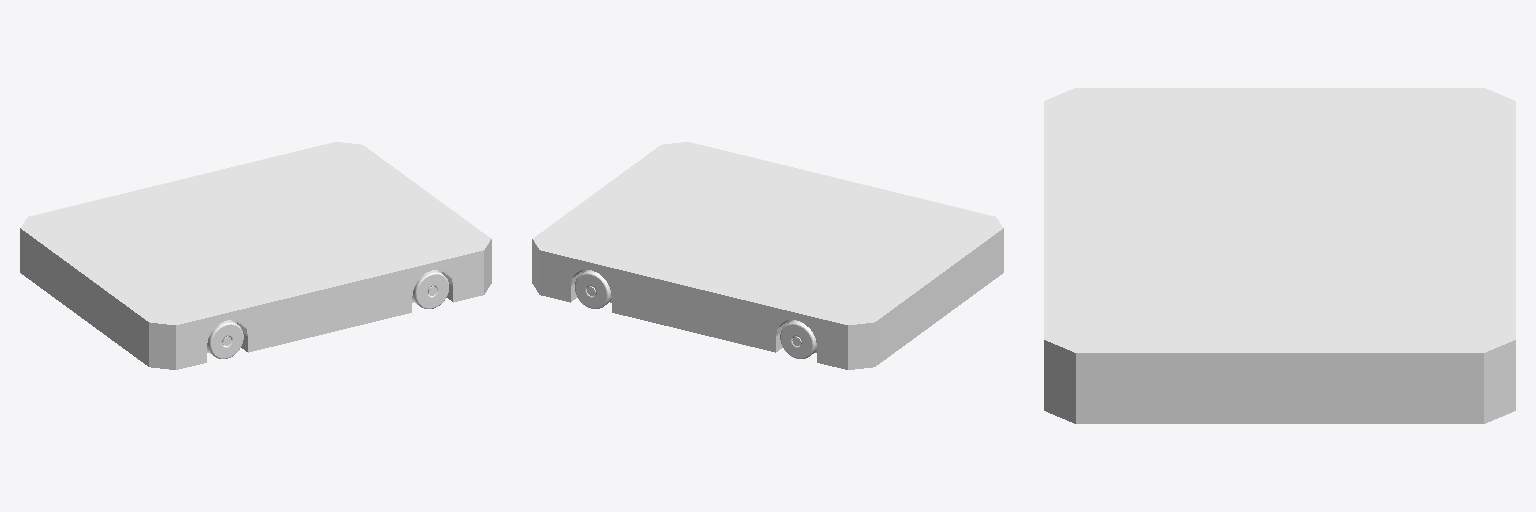
URDF robot description (agv):
<?xml version="1.0" encoding="utf-8"?>
<!-- This URDF was automatically created by SolidWorks to URDF Exporter! Originally created by [author] ([email redacted]) 
     Commit Version: 1.5.1-0-g916b5db  Build Version: 1.5.7152.31018
     For more information, please see http://wiki.ros.org/sw_urdf_exporter -->
<robot
  name="agv">
  <link
    name="base_footprint">
    <inertial>
      <origin
        xyz="3.46944695195361E-18 -5.55111512312578E-17 2.0000000000131E-05"
        rpy="0 0 0" />
      <mass
        value="2.01061929829948E-06" />
      <inertia
        ixx="8.04274527577102E-12"
        ixy="1.74616350177578E-55"
        ixz="3.13801719793953E-41"
        iyy="8.04274527577102E-12"
        iyz="-3.1083661313164E-46"
        izz="1.60849543863958E-11" />
    </inertial>
    <visual>
      <origin
        xyz="0 0 0"
        rpy="0 0 0" />
      <geometry>
        <mesh
          filename="package://agv_description/meshes/base_footprint.STL" />
      </geometry>
      <material
        name="">
        <color
          rgba="0.792156862745098 0.819607843137255 0.933333333333333 1" />
      </material>
    </visual>
    <collision>
      <origin
        xyz="0 0 0"
        rpy="0 0 0" />
      <geometry>
        <mesh
          filename="package://agv_description/meshes/base_footprint.STL" />
      </geometry>
    </collision>
  </link>
  <link
    name="base_Link">
    <inertial>
      <origin
        xyz="5.55111512312578E-17 -5.55111512312578E-17 0.125713618058247"
        rpy="0 0 0" />
      <mass
        value="728.097611322316" />
      <inertia
        ixx="133.566305698896"
        ixy="-5.4752209710518E-15"
        ixz="1.84390819133475E-16"
        iyy="242.974613570221"
        iyz="5.8190149305217E-16"
        izz="368.924129651498" />
    </inertial>
    <visual>
      <origin
        xyz="0 0 0"
        rpy="0 0 0" />
      <geometry>
        <mesh
          filename="package://agv_description/meshes/base_Link.STL" />
      </geometry>
      <material
        name="">
        <color
          rgba="1 1 1 1" />
      </material>
    </visual>
    <collision>
      <origin
        xyz="0 0 0"
        rpy="0 0 0" />
      <geometry>
        <mesh
          filename="package://agv_description/meshes/base_Link.STL" />
      </geometry>
    </collision>
  </link>
  <joint
    name="base_footprint_joint"
    type="fixed">
    <origin
      xyz="0 0 4E-05"
      rpy="0 0 0" />
    <parent
      link="base_footprint" />
    <child
      link="base_Link" />
    <axis
      xyz="0 0 0" />
  </joint>
  <link
    name="fl_Link">
    <inertial>
      <origin
        xyz="0 -2.22044604925031E-16 0.035"
        rpy="0 0 0" />
      <mass
        value="2.02796060125243" />
      <inertia
        ixx="0.00615294550222383"
        ixy="-2.34337466040914E-37"
        ixz="-3.67174469838234E-35"
        iyy="0.00615294550222383"
        iyz="-1.24830192880275E-35"
        izz="0.0106948140752879" />
    </inertial>
    <visual>
      <origin
        xyz="0 0 0"
        rpy="0 0 0" />
      <geometry>
        <mesh
          filename="package://agv_description/meshes/fl_Link.STL" />
      </geometry>
      <material
        name="">
        <color
          rgba="1 1 1 1" />
      </material>
    </visual>
    <collision>
      <origin
        xyz="0 0 0"
        rpy="0 0 0" />
      <geometry>
        <mesh
          filename="package://agv_description/meshes/fl_Link.STL" />
      </geometry>
    </collision>
  </link>
  <joint
    name="fl_joint"
    type="continuous">
    <origin
      xyz="0.6 0.68 0.09"
      rpy="-1.5708 0 0" />
    <parent
      link="base_Link" />
    <child
      link="fl_Link" />
    <axis
      xyz="0 0 1" />
  </joint>
  <link
    name="bl_Link">
    <inertial>
      <origin
        xyz="1.11022302462516E-16 0 0.0349886144674467"
        rpy="0 0 0" />
      <mass
        value="2.0286827045136" />
      <inertia
        ixx="0.00615398036846577"
        ixy="2.01225942475967E-34"
        ixz="9.73822666280366E-23"
        iyy="0.00615398036846577"
        iyz="-1.31655367292096E-33"
        izz="0.0106953992824643" />
    </inertial>
    <visual>
      <origin
        xyz="0 0 0"
        rpy="0 0 0" />
      <geometry>
        <mesh
          filename="package://agv_description/meshes/bl_Link.STL" />
      </geometry>
      <material
        name="">
        <color
          rgba="1 1 1 1" />
      </material>
    </visual>
    <collision>
      <origin
        xyz="0 0 0"
        rpy="0 0 0" />
      <geometry>
        <mesh
          filename="package://agv_description/meshes/bl_Link.STL" />
      </geometry>
    </collision>
  </link>
  <joint
    name="bl_joint"
    type="continuous">
    <origin
      xyz="-0.6 0.68 0.0900000000000001"
      rpy="-1.5707963267949 0 0" />
    <parent
      link="base_Link" />
    <child
      link="bl_Link" />
    <axis
      xyz="0 0 1" />
  </joint>
  <link
    name="fr_Link">
    <inertial>
      <origin
        xyz="0 2.22044604925031E-16 0.0350501592853405"
        rpy="0 0 0" />
      <mass
        value="2.03116301113069" />
      <inertia
        ixx="0.00616813439647654"
        ixy="-2.49506093056538E-34"
        ixz="-1.10979702273246E-19"
        iyy="0.00616813439647653"
        iyz="1.86315854605333E-33"
        izz="0.0107186859543853" />
    </inertial>
    <visual>
      <origin
        xyz="0 0 0"
        rpy="0 0 0" />
      <geometry>
        <mesh
          filename="package://agv_description/meshes/fr_Link.STL" />
      </geometry>
      <material
        name="">
        <color
          rgba="1 1 1 1" />
      </material>
    </visual>
    <collision>
      <origin
        xyz="0 0 0"
        rpy="0 0 0" />
      <geometry>
        <mesh
          filename="package://agv_description/meshes/fr_Link.STL" />
      </geometry>
    </collision>
  </link>
  <joint
    name="fr_joint"
    type="continuous">
    <origin
      xyz="0.6 -0.68 0.0900000000000001"
      rpy="1.5707963267949 0 0" />
    <parent
      link="base_Link" />
    <child
      link="fr_Link" />
    <axis
      xyz="0 0 1" />
  </joint>
  <link
    name="br_Link">
    <inertial>
      <origin
        xyz="0 0 0.0349611985496496"
        rpy="0 0 0" />
      <mass
        value="2.03044090786952" />
      <inertia
        ixx="0.00616710132063279"
        ixy="-1.22133482371899E-36"
        ixz="1.10920318812234E-19"
        iyy="0.00616710132063279"
        iyz="-1.26745985148929E-35"
        izz="0.010718100747209" />
    </inertial>
    <visual>
      <origin
        xyz="0 0 0"
        rpy="0 0 0" />
      <geometry>
        <mesh
          filename="package://agv_description/meshes/br_Link.STL" />
      </geometry>
      <material
        name="">
        <color
          rgba="1 1 1 1" />
      </material>
    </visual>
    <collision>
      <origin
        xyz="0 0 0"
        rpy="0 0 0" />
      <geometry>
        <mesh
          filename="package://agv_description/meshes/br_Link.STL" />
      </geometry>
    </collision>
  </link>
  <joint
    name="br_joint"
    type="continuous">
    <origin
      xyz="-0.6 -0.68 0.0899999999999994"
      rpy="1.5707963267949 0 0" />
    <parent
      link="base_Link" />
    <child
      link="br_Link" />
    <axis
      xyz="0 0 1" />
  </joint>
</robot>

--- What the picture shows (computed from the rendered views, not written in the file) ---
3 views of the same robot in one strip: view 1: azimuth 30°, elevation 25°; view 2: azimuth 150°, elevation 25°; view 3: azimuth 270°, elevation 25° (orthographic).
Robot: agv — 6 links, 5 joints (4 continuous, 1 fixed); root link base_footprint; default pose: every joint at zero.
Visible links, largest first — view 1: base_Link, fr_Link, br_Link; view 2: base_Link, bl_Link, fl_Link; view 3: base_Link.
Boxes of the visible links, bbox=[...] form: base_Link: bbox=[20, 142, 491, 369]; fr_Link: bbox=[412, 270, 448, 308]; br_Link: bbox=[207, 320, 243, 358]; base_Link: bbox=[532, 142, 1003, 369]; bl_Link: bbox=[780, 320, 816, 358]; fl_Link: bbox=[575, 270, 611, 308]; base_Link: bbox=[1044, 88, 1515, 423].
Bounding box of the posed robot: 2 × 1.5 × 0.2598 m (x, y, z).
Meshes: 6 distinct files referenced, 6 mesh visuals loaded (6 binary STL).